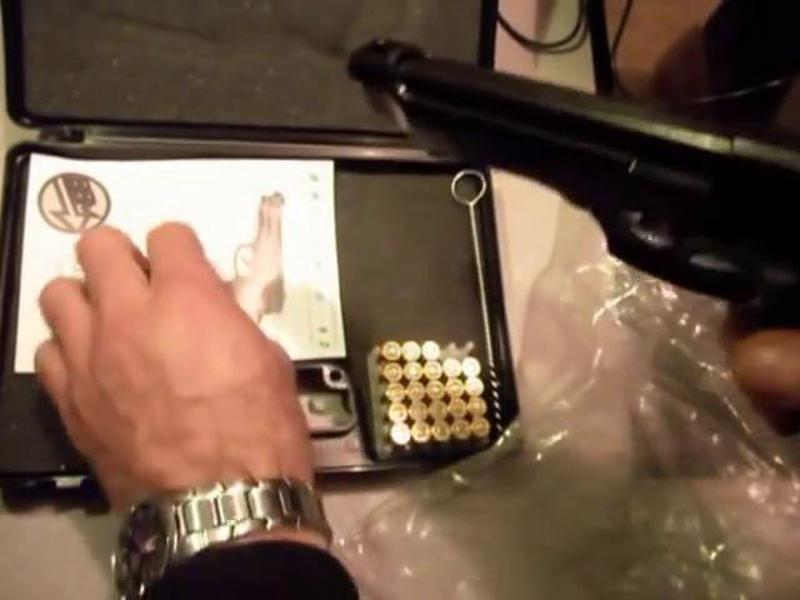Pistola: (360, 42, 799, 419)
